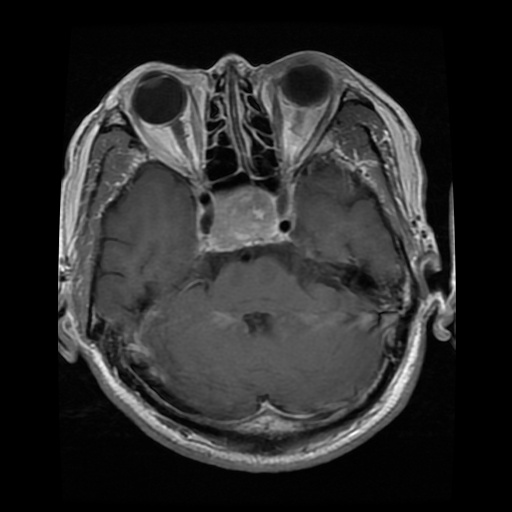pituitary: (202, 186, 278, 252)
